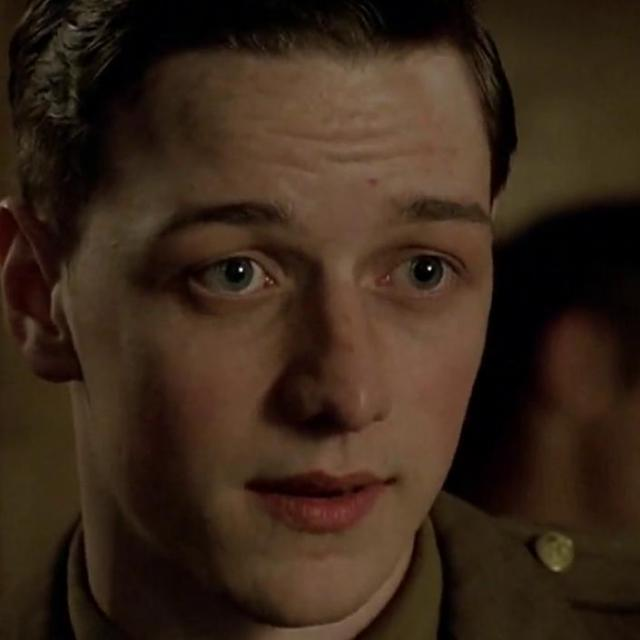surprised: (98, 0, 467, 616)
